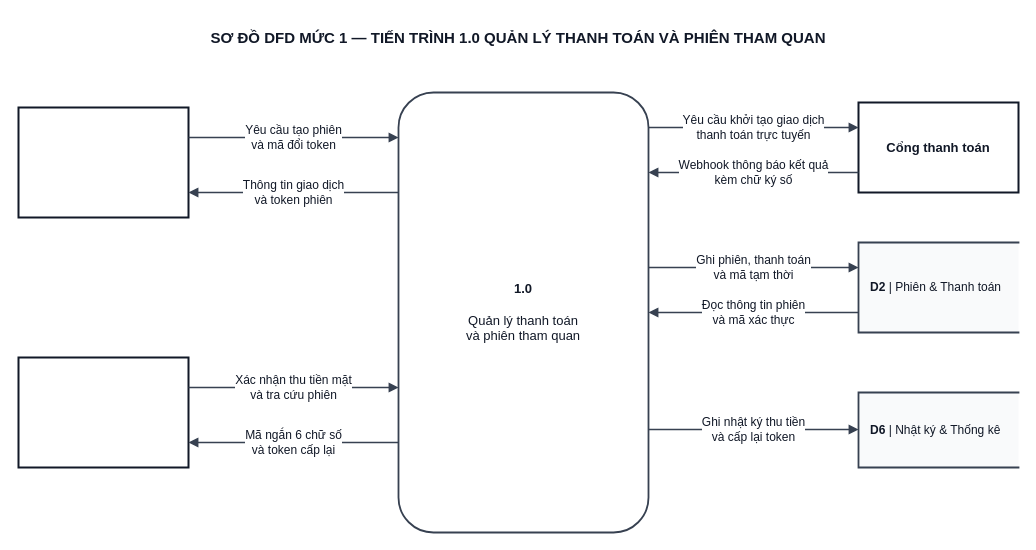
Some shapes in this 1036 by 550 pixel diagram are drawn without their labels. Here are the shapes that lost their labels. From the top down, the box of each, then its label:
(17, 106, 189, 218): Khách tham quan
(17, 356, 189, 468): Nhân viên
